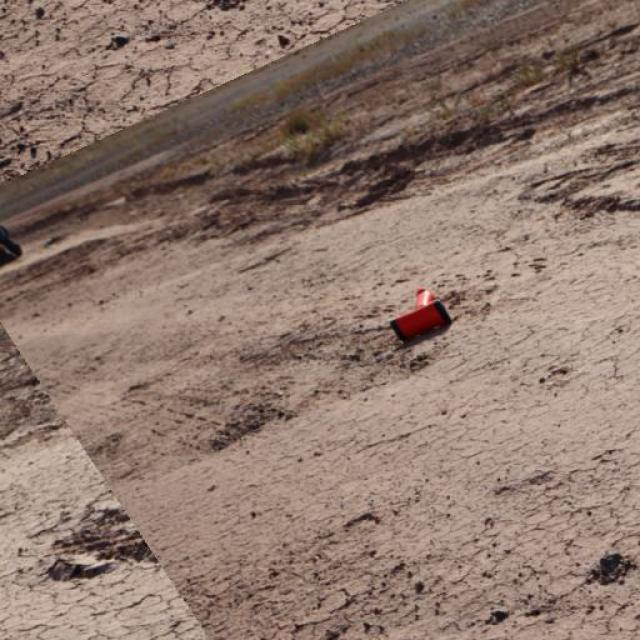mallet: (388, 286, 452, 344)
